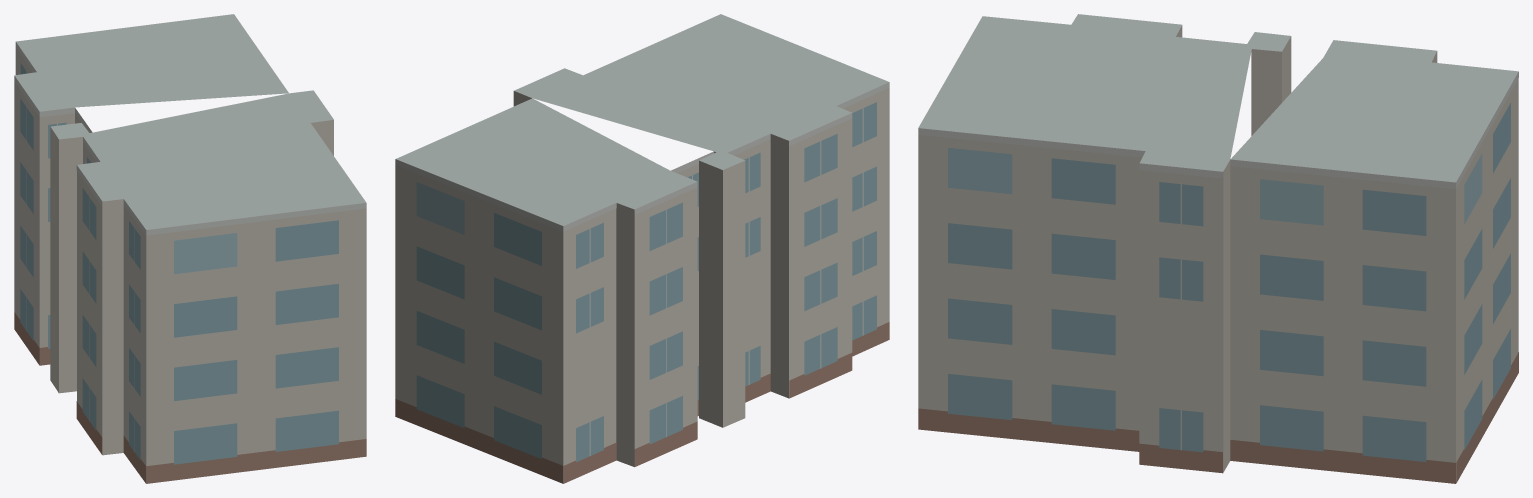
File: survey-upis-32532258.glb
3 renders of one model, left to right at view 1: azimuth 30°, elevation 25°; view 2: azimuth 150°, elevation 25°; view 3: azimuth 270°, elevation 25°, orthographic. The views are drawn at different scales.
Parts seen in each view (by area): view 1: survey-upis-32532258.tmp; view 2: survey-upis-32532258.tmp; view 3: survey-upis-32532258.tmp.
Boxes of the visible parts, x1=… form: survey-upis-32532258.tmp: x1=14, y1=14, x2=366, y2=483; survey-upis-32532258.tmp: x1=395, y1=14, x2=889, y2=483; survey-upis-32532258.tmp: x1=918, y1=14, x2=1518, y2=483.
Size of the model in its own units: 13.32 by 11.1 by 20.06.
